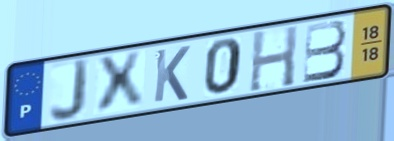0: (202, 36, 244, 97)
B: (301, 18, 349, 85)
H: (247, 23, 301, 94)
J: (47, 57, 92, 124)
K: (151, 44, 193, 105)
X: (94, 49, 146, 117)
